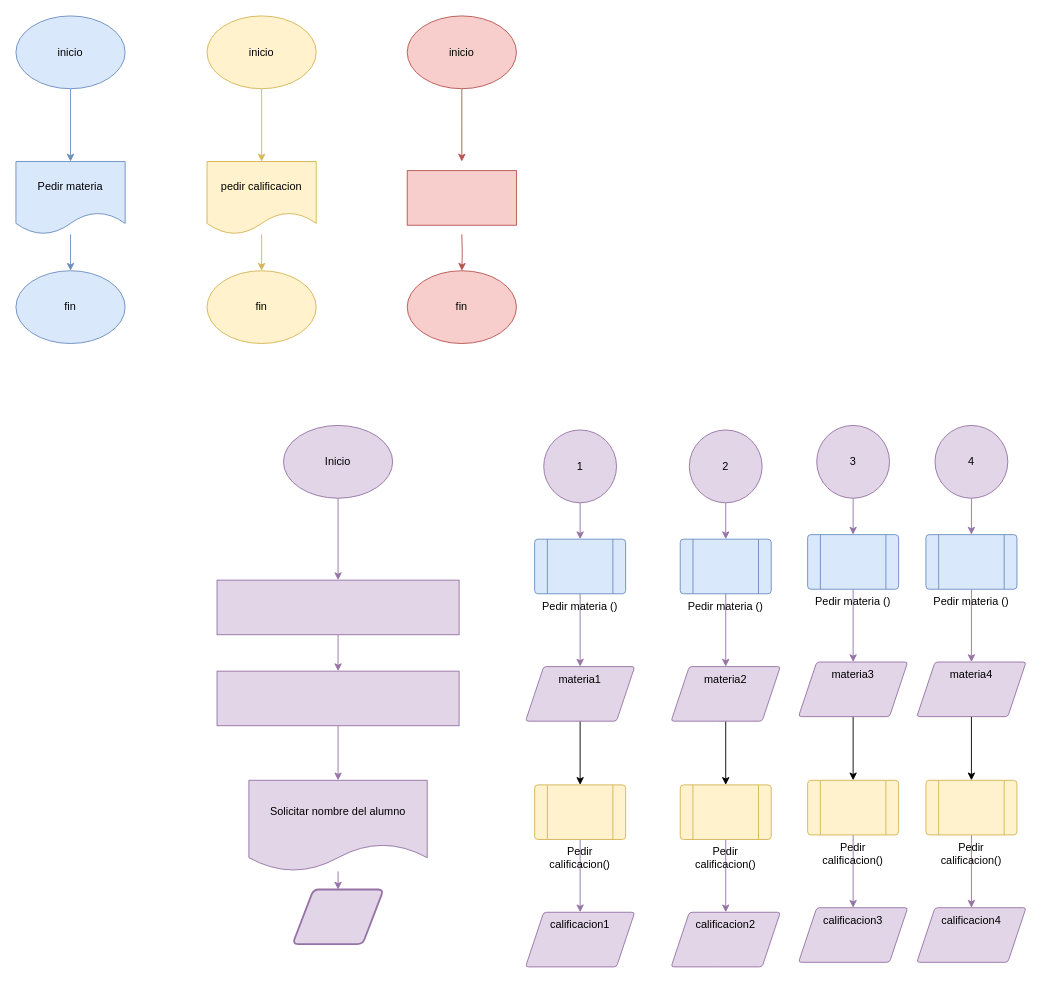
The diagram is 1042 pixels wide and 983 high, and some of its shapes have lost their labels. Each missing label, with the centre of its shape:
"cal1,cal2,cal3,cal4,promedio,suma como real" goes at (337,607).
"calcular promedio" goes at (461,197).
"Materia1,Materia2,Materia3,Materia4,nombre como caracter" goes at (337,698).
"nombre" goes at (337,916).
